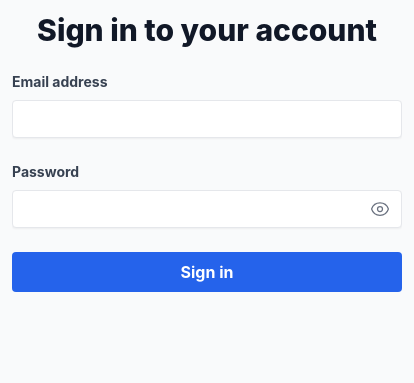
Test case: LoginForm › shows an error message on failed submission
Type "wrong@example.com" into the field labelled "Email address" at (207, 119), box 12,100 -> 402,138
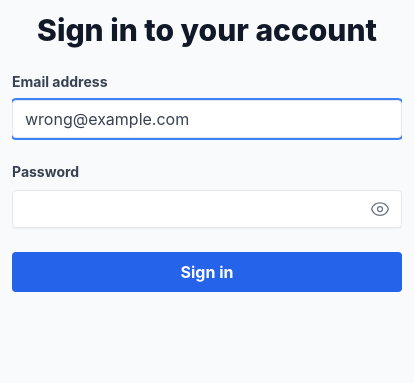
Type "wrongpassword" into the password field labelled "Password" at (207, 209), box 12,190 -> 402,228
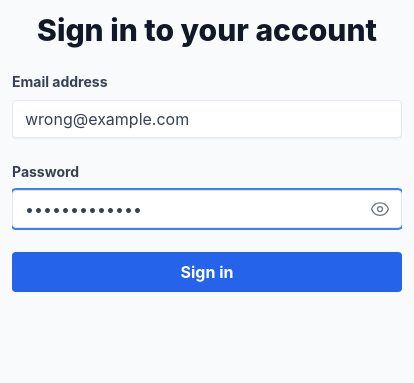
Click the button "Sign in" at (207, 272), box 12,252 -> 402,292
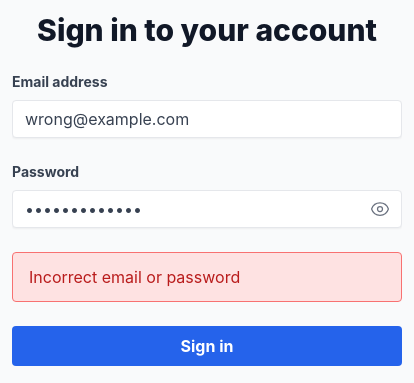
Check: the text "Incorrect email or password" is shown, box 29,267 -> 240,287
